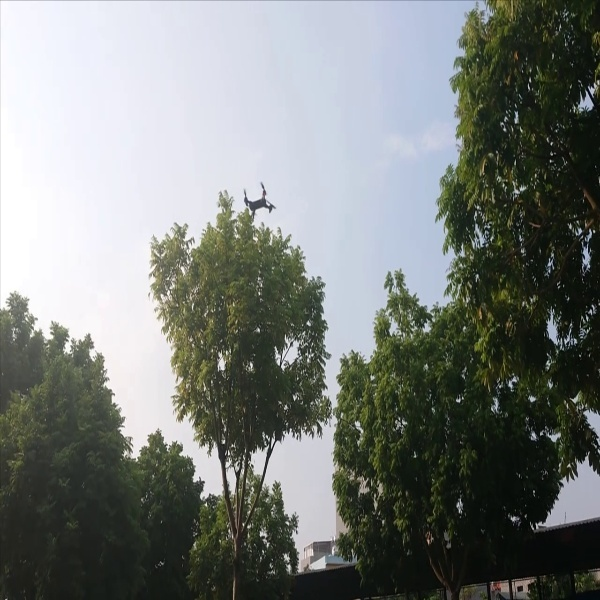drone: (236, 180, 276, 226)
